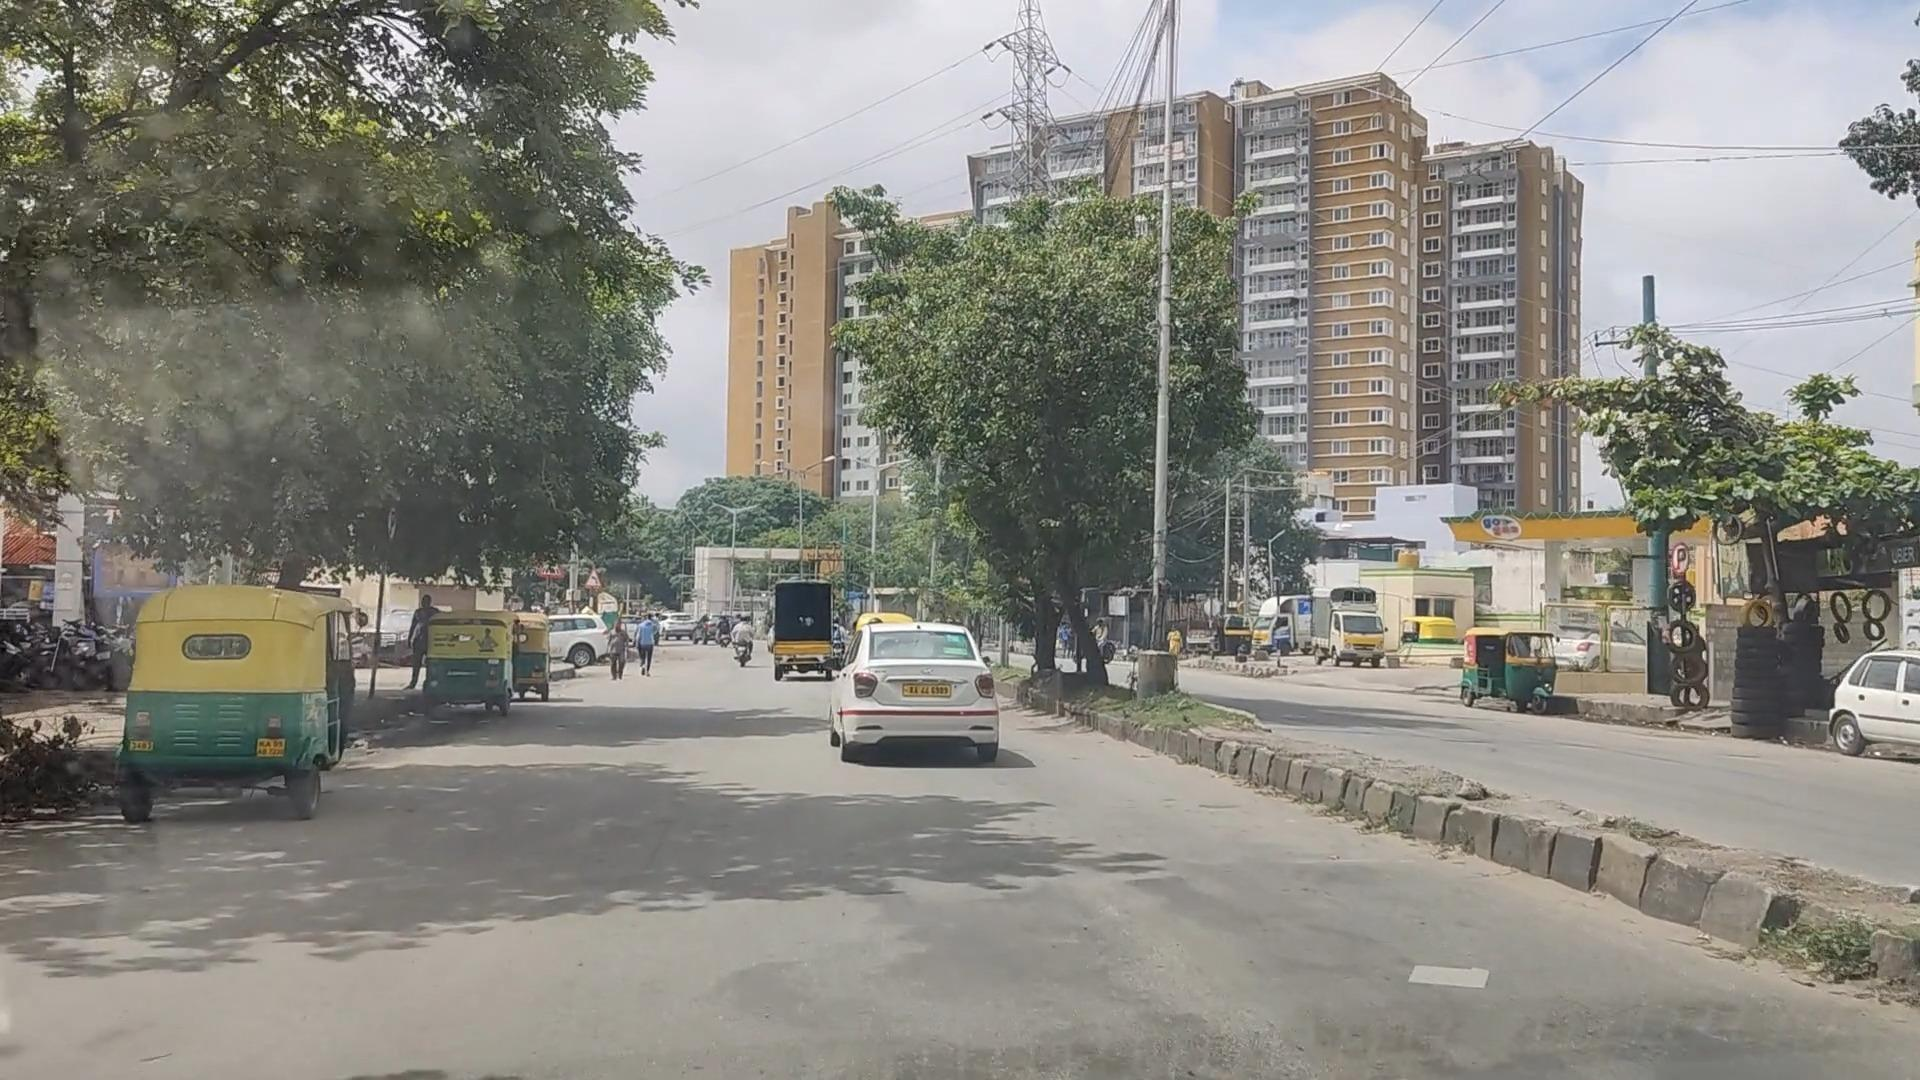LMV: (124, 560, 378, 795), (812, 615, 1017, 778)
RoadDamages: (1212, 935, 1549, 1033)
